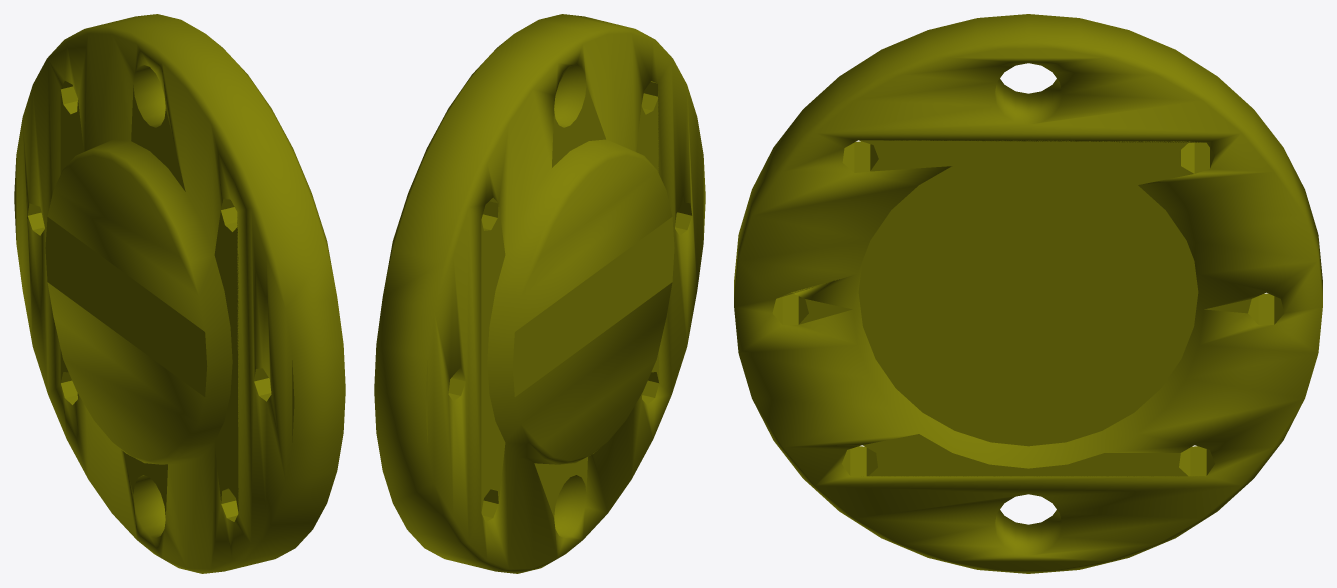
The picture shows the model from 3 angles, left to right: view 1: azimuth 30°, elevation 25°; view 2: azimuth 150°, elevation 25°; view 3: azimuth 270°, elevation 25°; orthographic projection. The views are drawn at different scales.
Visible parts, largest first — view 1: link_6; view 2: link_6; view 3: link_6.
Part boxes in pixels (<box>): link_6: <box>14,14,345,573</box>; link_6: <box>374,14,705,573</box>; link_6: <box>734,14,1322,573</box>.
Bounding box in the file's own units: 0.0095 × 0.052 × 0.052.
